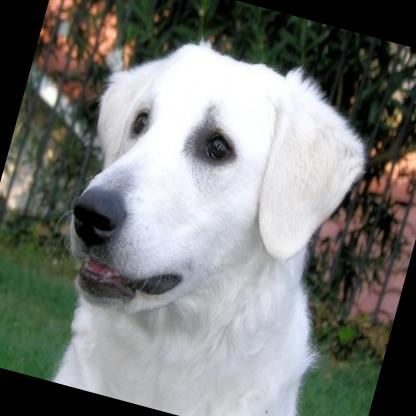kuvasz: (16, 13, 401, 416)
